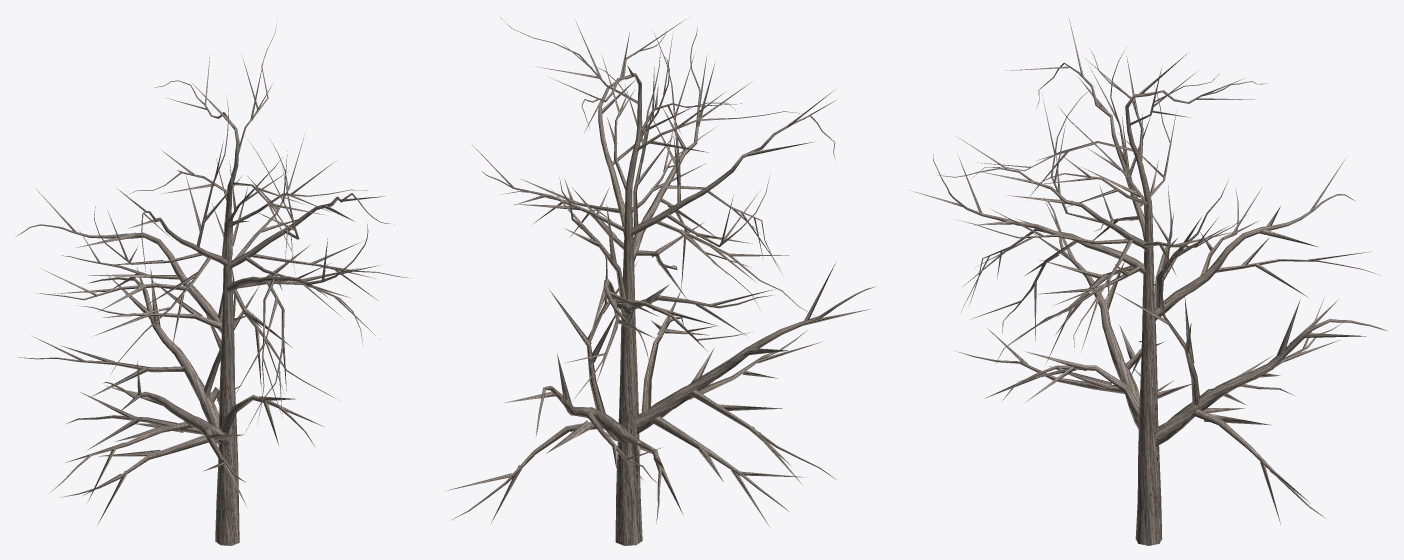
File: StandingDeadOak.glb
The picture shows the model from 3 angles, left to right: view 1: azimuth 30°, elevation 25°; view 2: azimuth 150°, elevation 25°; view 3: azimuth 270°, elevation 25°; orthographic projection. The views are drawn at different scales.
Visible parts, largest first — view 1: StandingDeadOak trunk; view 2: StandingDeadOak trunk; view 3: StandingDeadOak trunk.
Part boxes in pixels (x1,y1,x2,y2): StandingDeadOak trunk: [16, 20, 410, 545]; StandingDeadOak trunk: [444, 17, 875, 545]; StandingDeadOak trunk: [910, 19, 1388, 545].
Size of the model in its own units: 8.67 by 11.8 by 10.07.
Materials: 1 (1 with a texture image).
